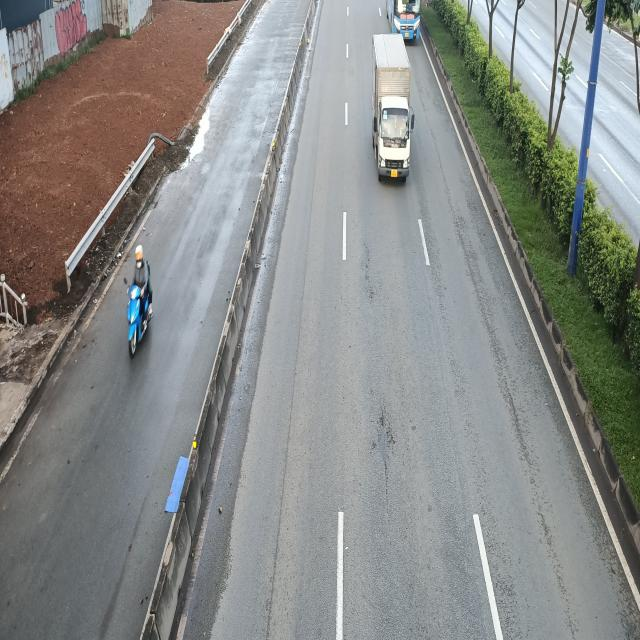coach: (385, 0, 421, 42)
truck: (371, 32, 414, 180)
